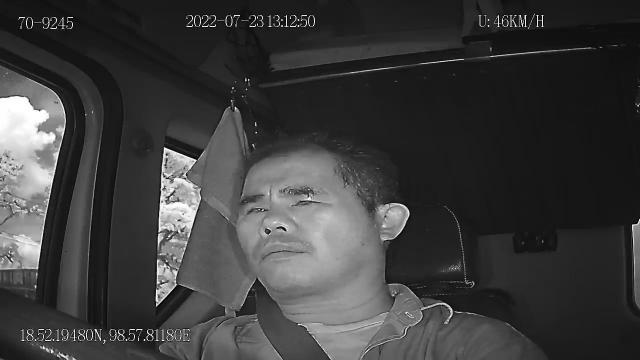SafeDriving: (282, 185, 328, 212), (240, 198, 274, 220)
Seatbelt: (254, 286, 334, 360)
